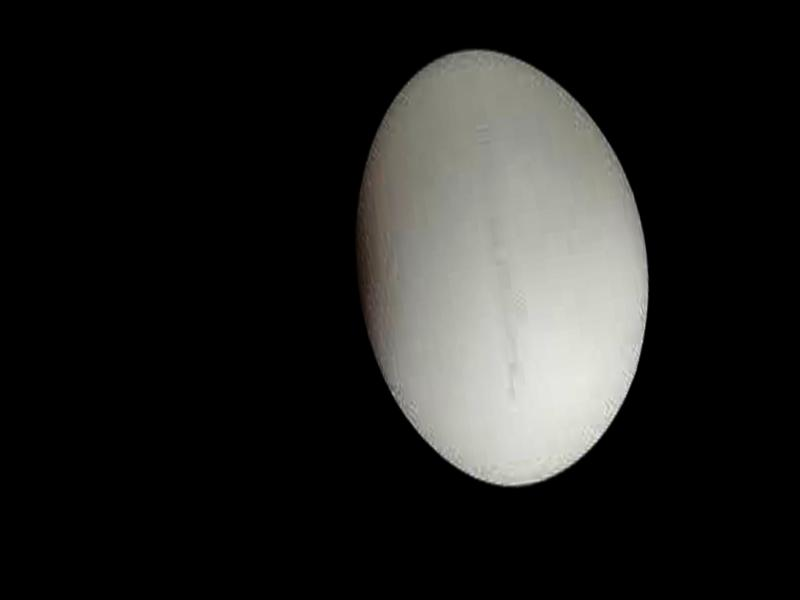Eggs: (325, 29, 676, 507)
